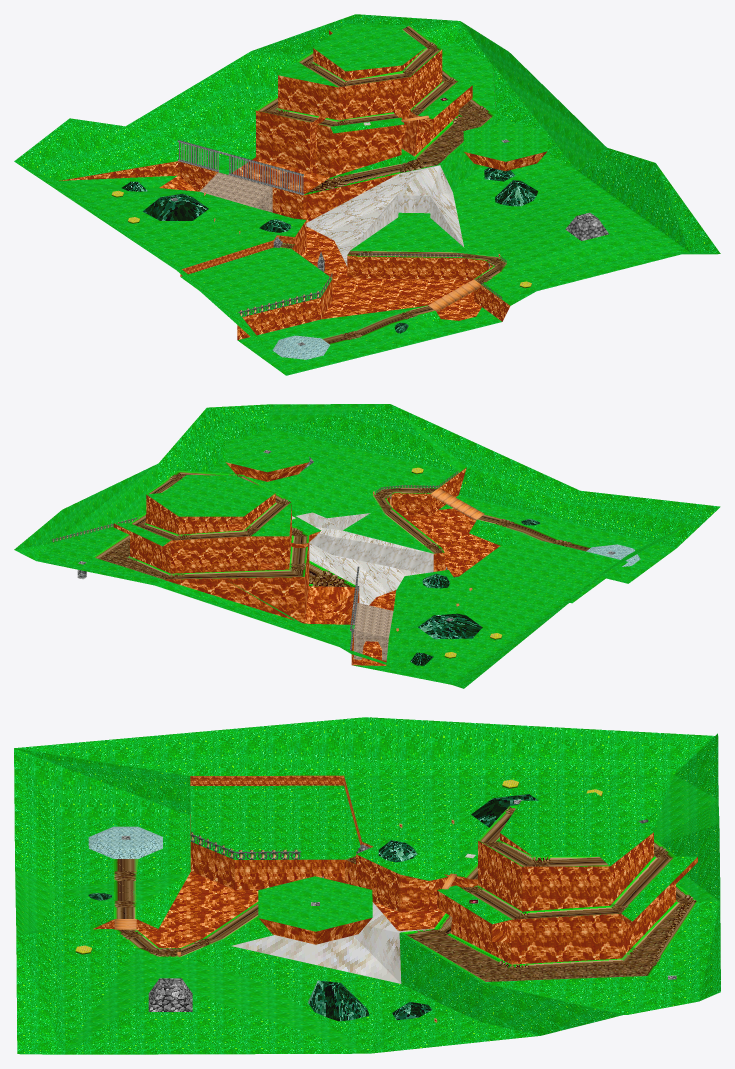
Rendered from bob.glb.
The picture shows the model from 3 angles, top to bottom: view 1: azimuth 30°, elevation 25°; view 2: azimuth 150°, elevation 25°; view 3: azimuth 270°, elevation 25°; orthographic projection. The views are drawn at different scales.
Visible parts, largest first — view 1: solid -col; view 2: solid -col; view 3: solid -col.
Boxes of the visible parts, <box> form: solid -col: <box>14,14,720,375</box>; solid -col: <box>14,404,720,688</box>; solid -col: <box>14,717,720,1054</box>.
Bounding box in the file's own units: 165 × 47.14 × 165.
Materials: 19 (19 with a texture image).
